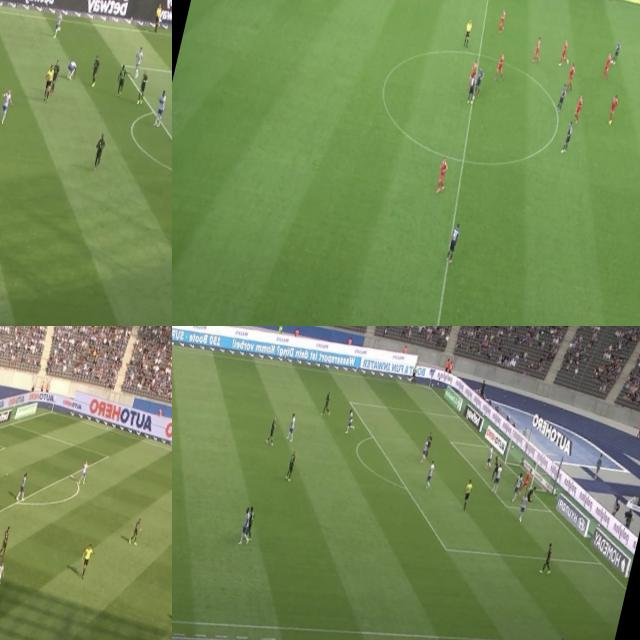ball: (470, 94, 476, 100)
player: (443, 221, 462, 264), (152, 86, 169, 128), (434, 155, 451, 196), (540, 538, 556, 580), (0, 85, 15, 123), (15, 468, 30, 506), (91, 132, 106, 168), (131, 44, 145, 82), (88, 52, 102, 90), (560, 118, 574, 155), (492, 50, 508, 82), (514, 492, 530, 524), (135, 69, 150, 103), (283, 447, 297, 482), (557, 39, 573, 69), (128, 514, 144, 544), (422, 458, 438, 488), (50, 8, 64, 42), (606, 92, 619, 126), (240, 508, 253, 542), (342, 408, 357, 437), (554, 81, 568, 112), (286, 411, 300, 442), (49, 58, 62, 91), (465, 60, 479, 90), (0, 523, 12, 558), (114, 62, 126, 96), (466, 70, 478, 104), (472, 67, 486, 96), (509, 472, 523, 501), (320, 388, 334, 417), (572, 94, 585, 124), (531, 34, 544, 64), (244, 504, 256, 536), (609, 37, 622, 66), (77, 458, 91, 484), (600, 50, 612, 80), (422, 430, 434, 460), (266, 414, 278, 444), (564, 61, 576, 90), (491, 462, 503, 491), (520, 468, 533, 494), (496, 8, 508, 35), (484, 443, 496, 470), (490, 454, 501, 480), (65, 59, 78, 79), (524, 484, 536, 505), (419, 436, 428, 464), (0, 558, 7, 593)
